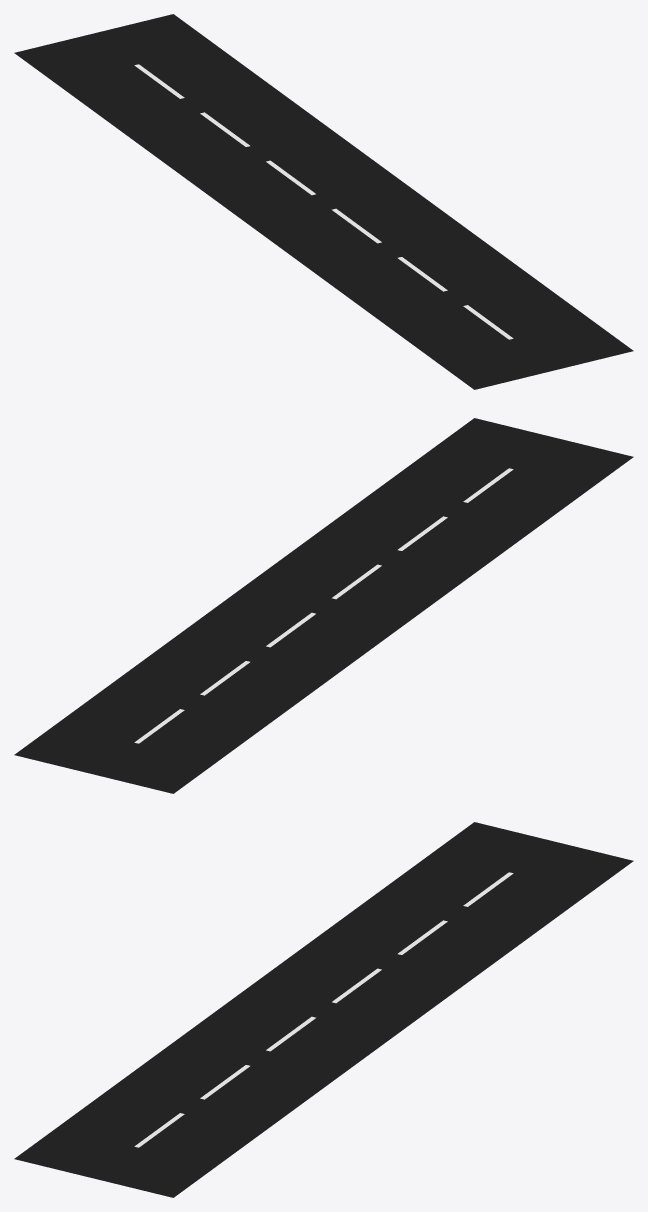
Rendered from Asphalt_02.fbx.
3 renders of one model, top to bottom at view 1: azimuth 30°, elevation 25°; view 2: azimuth 150°, elevation 25°; view 3: azimuth 330°, elevation 25°, orthographic.
Visible parts, largest first — view 1: Asphalt2; view 2: Asphalt2; view 3: Asphalt2.
Part boxes in pixels (left/top/right/bottom): Asphalt2: left=14, top=14, right=633, bottom=389; Asphalt2: left=14, top=418, right=633, bottom=793; Asphalt2: left=14, top=822, right=633, bottom=1197.
Size of the model in its own units: 10 by 1.11e-16 by 50.
Materials: 1 (1 with a texture image).
